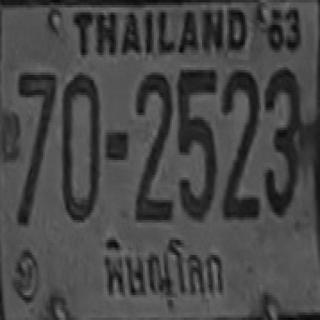N00: (61, 71, 100, 221)
N02: (221, 69, 258, 206), (135, 71, 172, 206), (221, 69, 258, 194)
N03: (263, 68, 300, 215)
N05: (177, 69, 216, 219)
N07: (16, 70, 55, 220)
P46: (92, 229, 232, 314)
